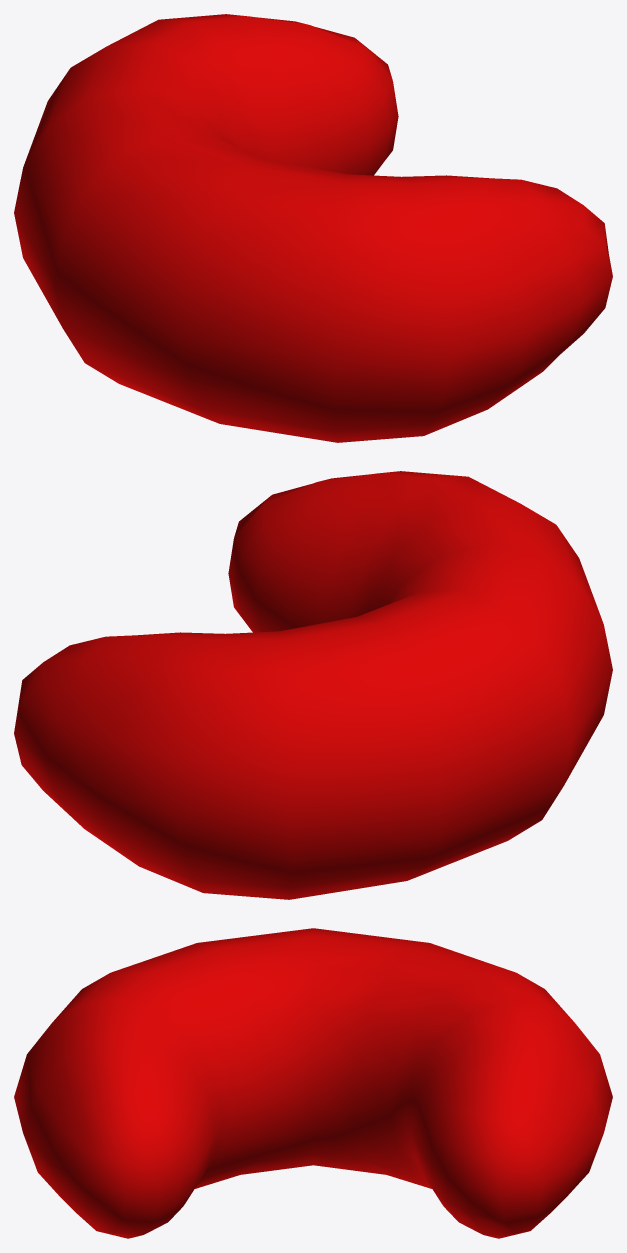
File: Fur-13-00.fbx
3 renders of one model, top to bottom at view 1: azimuth 30°, elevation 25°; view 2: azimuth 150°, elevation 25°; view 3: azimuth 270°, elevation 25°, orthographic. The views are drawn at different scales.
Parts seen in each view (by area): view 1: Mul_Mesh; view 2: Mul_Mesh; view 3: Mul_Mesh.
Boxes of the visible parts, <box> form: Mul_Mesh: <box>14,14,612,442</box>; Mul_Mesh: <box>14,471,612,899</box>; Mul_Mesh: <box>14,928,612,1238</box>.
Size of the model in its own units: 96.78 by 52.06 by 128.
